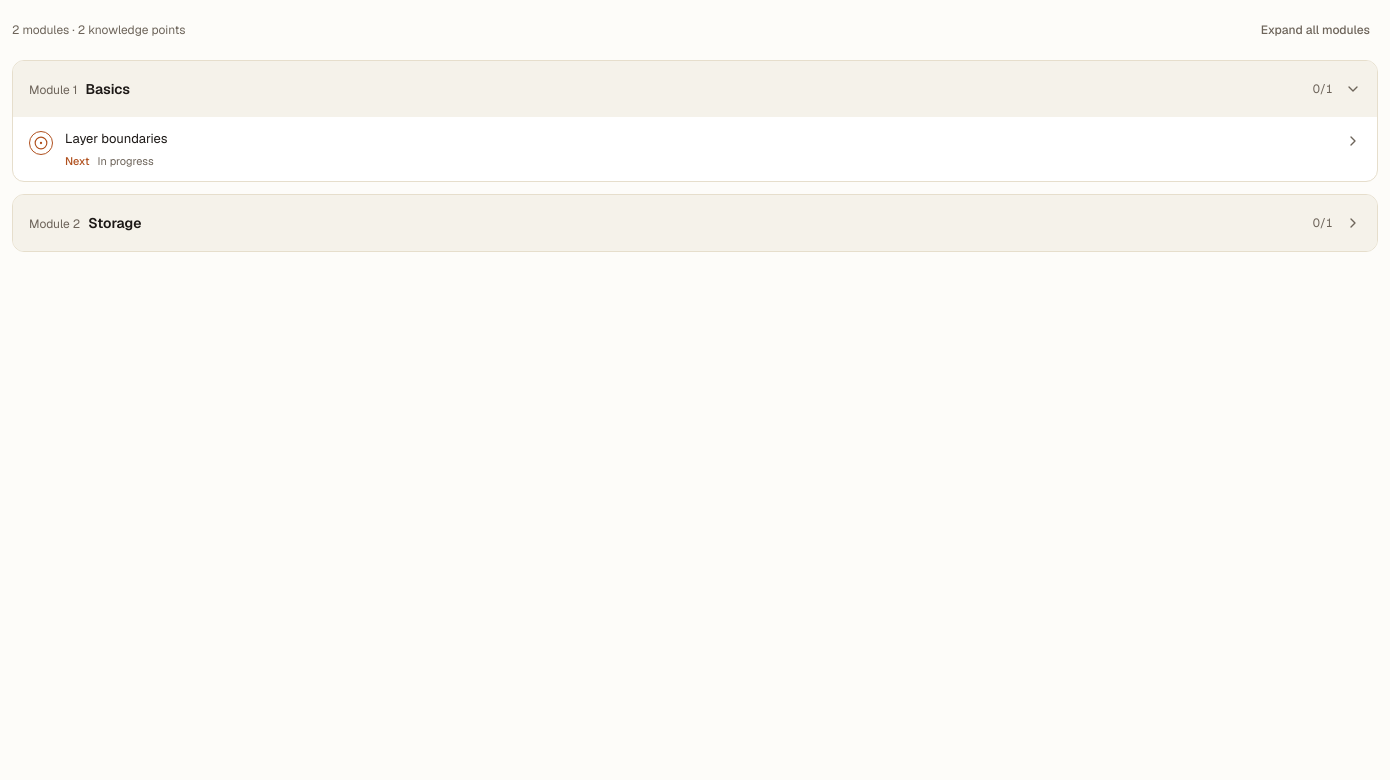
Test: module outline navigation › opens the matching conversation when continuing a learning point
The width and height of the screenshot is (1390, 780).
Step 1. Click the button "Layer boundaries Next In progress" → point(116, 138), box 13,117 -> 1377,181
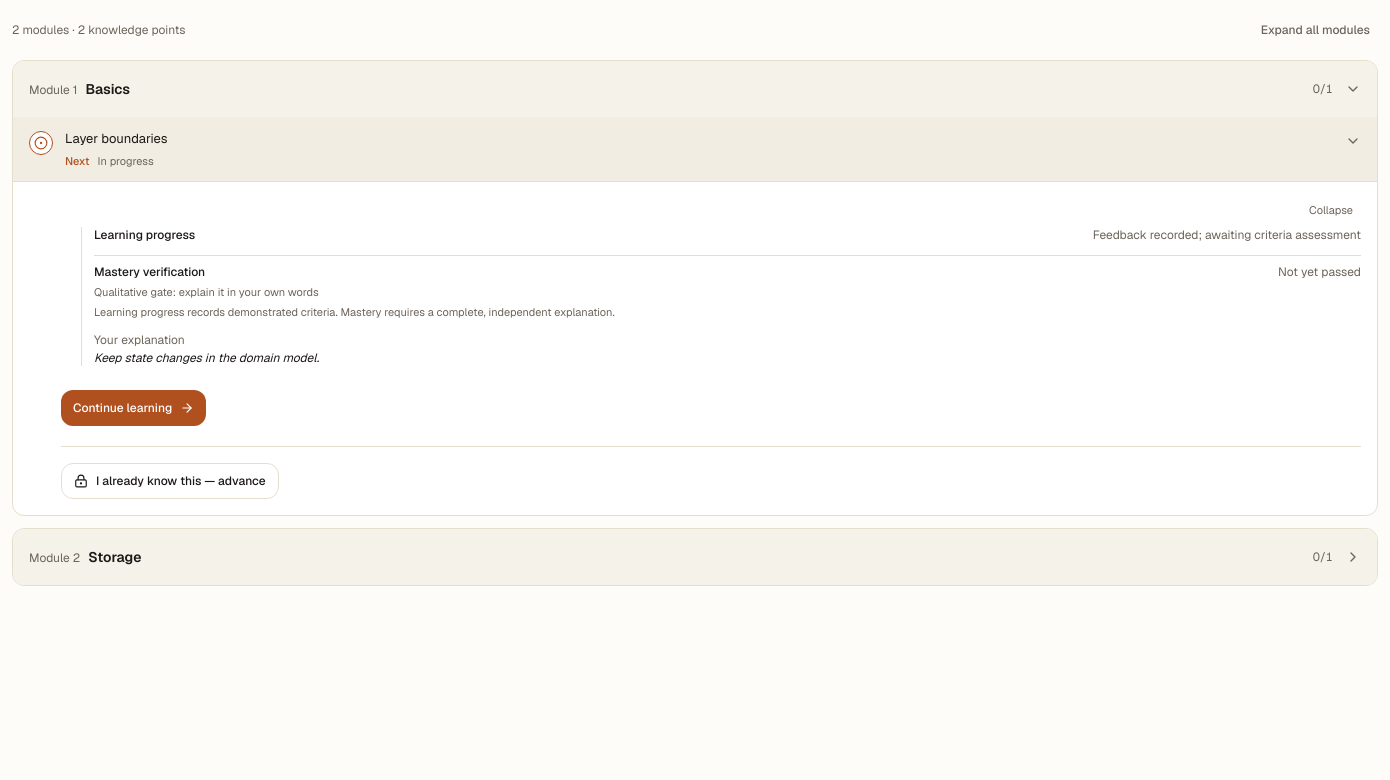
Result: the text "Keep state changes in the domain model." is shown at 94,350 -> 319,366
